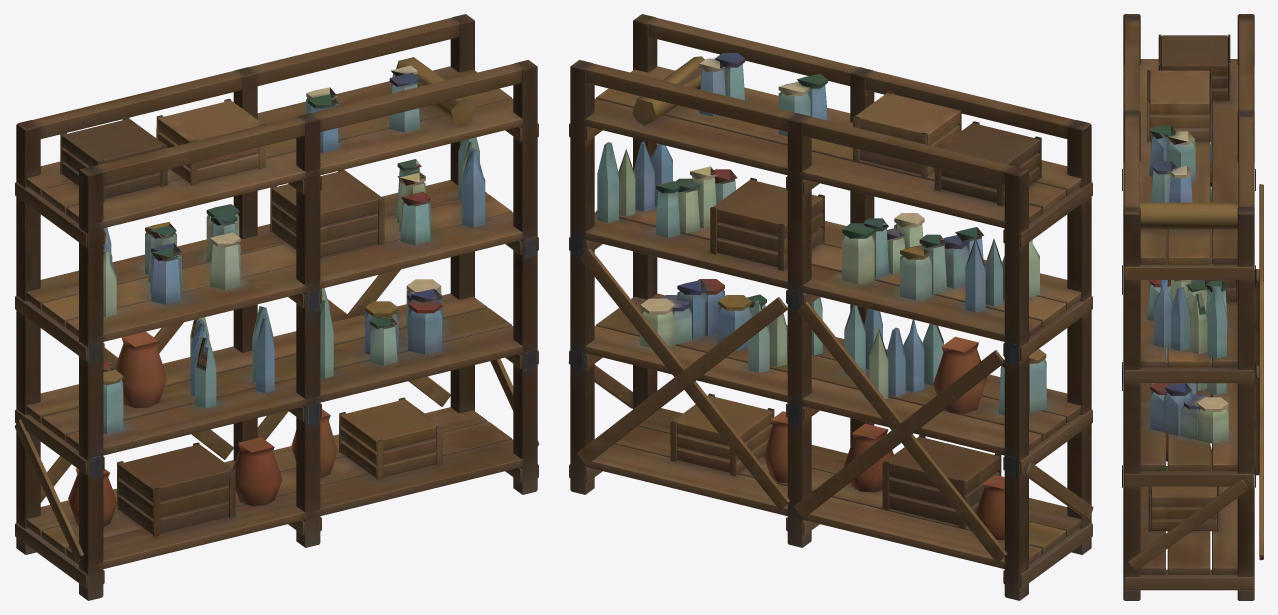
The model's file is rack-long.low.glb.
3 views of the same model, side by side, from view 1: azimuth 30°, elevation 25°; view 2: azimuth 150°, elevation 25°; view 3: azimuth 270°, elevation 25° (orthographic). The views are drawn at different scales.
Visible parts, largest first — view 1: rack-long; view 2: rack-long; view 3: rack-long.
Part boxes in pixels (x1,y1,x2,y2): rack-long: (14,14,539,600); rack-long: (568,14,1093,600); rack-long: (1122,14,1263,600).
Bounding box in the file's own units: 1.69 × 1.5 × 0.4966.
1 material, 1 textured.
